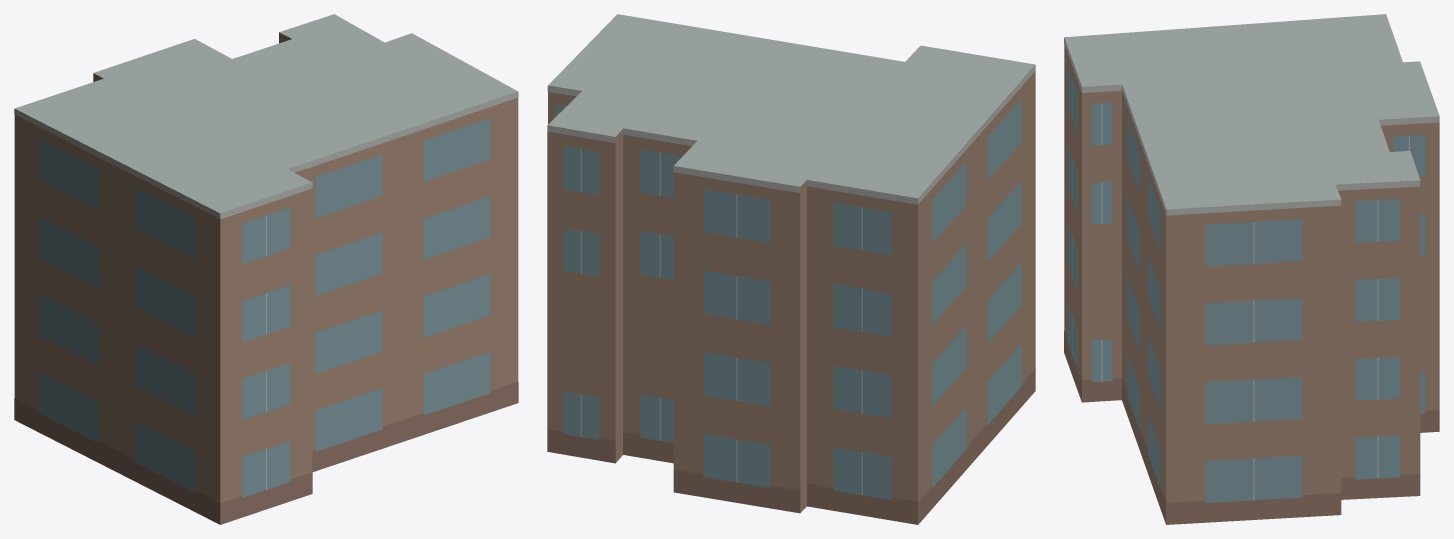
File: survey-upis-33018323.glb
3 views of the same model, side by side, from view 1: azimuth 30°, elevation 25°; view 2: azimuth 150°, elevation 25°; view 3: azimuth 270°, elevation 25° (orthographic). The views are drawn at different scales.
Parts seen in each view (by area): view 1: survey-upis-33018323.tmp; view 2: survey-upis-33018323.tmp; view 3: survey-upis-33018323.tmp.
Part boxes in pixels (bbox=[...]): survey-upis-33018323.tmp: bbox=[14, 14, 518, 524]; survey-upis-33018323.tmp: bbox=[547, 14, 1035, 524]; survey-upis-33018323.tmp: bbox=[1064, 14, 1439, 524].
Size of the model in its own units: 16.75 by 12.6 by 13.61.
